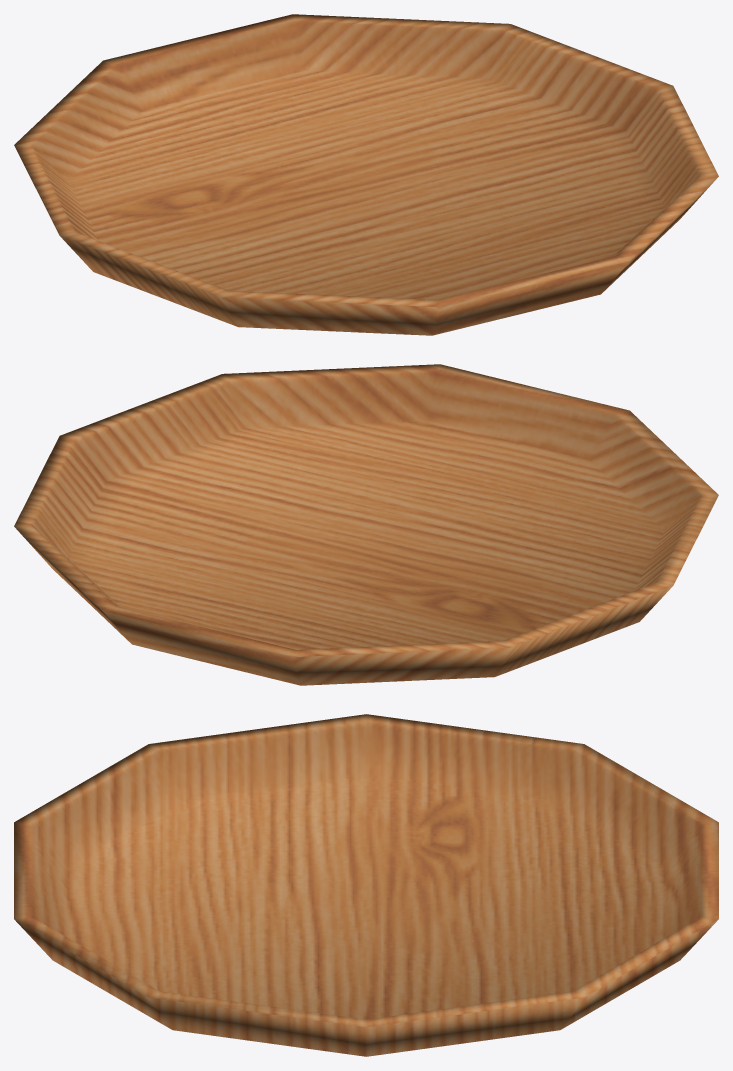
Rendered from DishWood.fbx.
3 renders of one model, top to bottom at view 1: azimuth 30°, elevation 25°; view 2: azimuth 150°, elevation 25°; view 3: azimuth 270°, elevation 25°, orthographic. The views are drawn at different scales.
Visible parts, largest first — view 1: Empty_Mesh; view 2: Empty_Mesh; view 3: Empty_Mesh.
Boxes of the visible parts, <box> form: Empty_Mesh: <box>14,14,718,335</box>; Empty_Mesh: <box>14,364,718,685</box>; Empty_Mesh: <box>14,714,718,1056</box>.
Bounding box in the file's own units: 0.4838 × 0.0336 × 0.4602.
